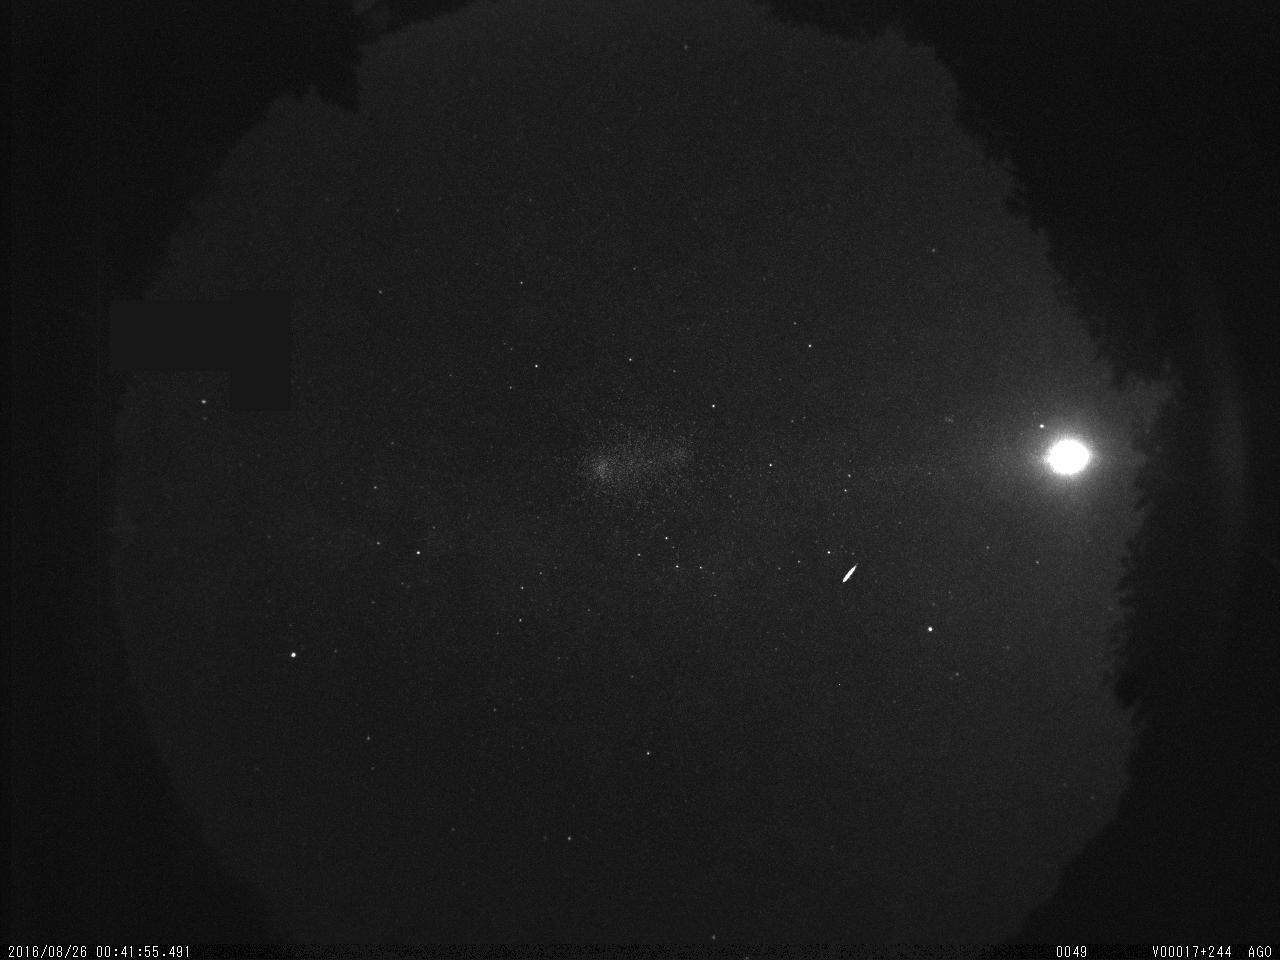meteor: (827, 556, 873, 601)
